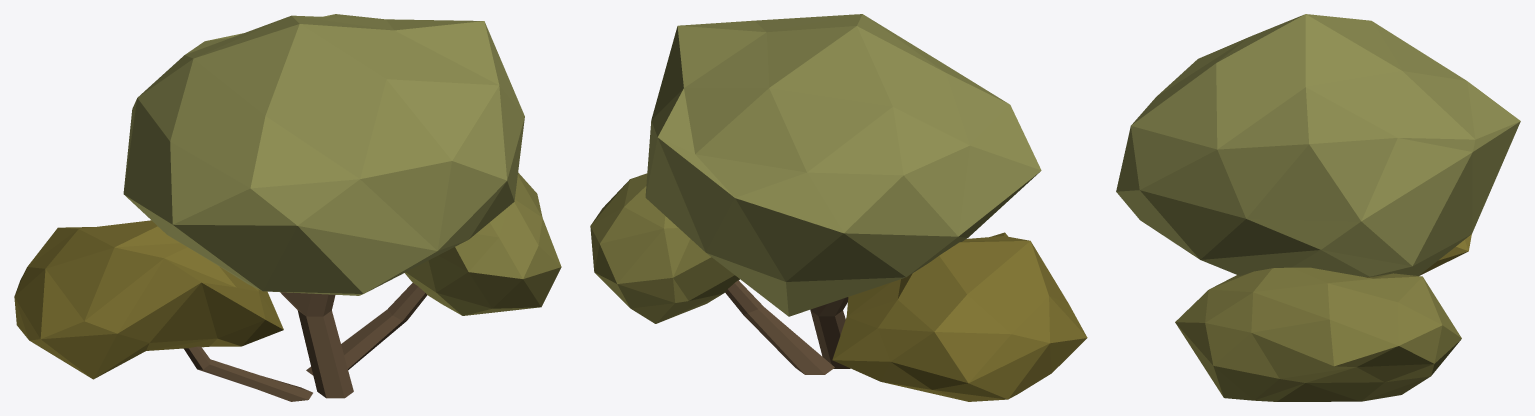
File: enchantedforest_bush_3.fbx
3 renders of one model, left to right at view 1: azimuth 30°, elevation 25°; view 2: azimuth 150°, elevation 25°; view 3: azimuth 270°, elevation 25°, orthographic. The views are drawn at different scales.
Visible parts, largest first — view 1: Icosphere.010; view 2: Icosphere.010; view 3: Icosphere.010.
Part boxes in pixels (x1,y1,x2,y2): Icosphere.010: [14, 14, 561, 401]; Icosphere.010: [590, 14, 1087, 401]; Icosphere.010: [1116, 14, 1520, 401].
Bounding box in the file's own units: 2.06 × 1.44 × 1.49.
